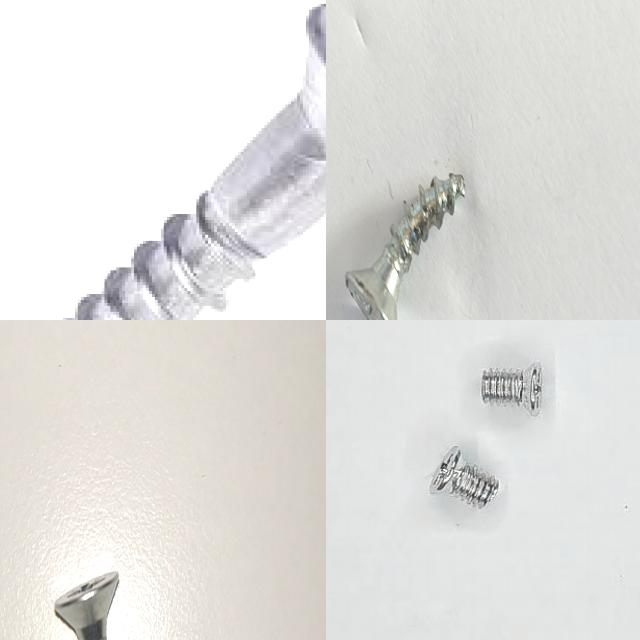Screw: (66, 7, 326, 320), (346, 172, 465, 320), (54, 570, 119, 640), (428, 446, 499, 509), (479, 362, 542, 416)
